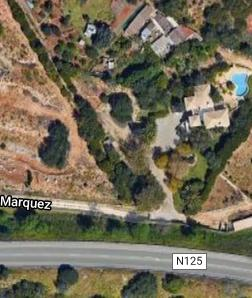pool: (225, 69, 250, 99)
